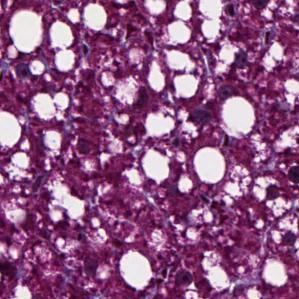steatosis: (115, 249, 158, 287), (190, 146, 228, 186)
